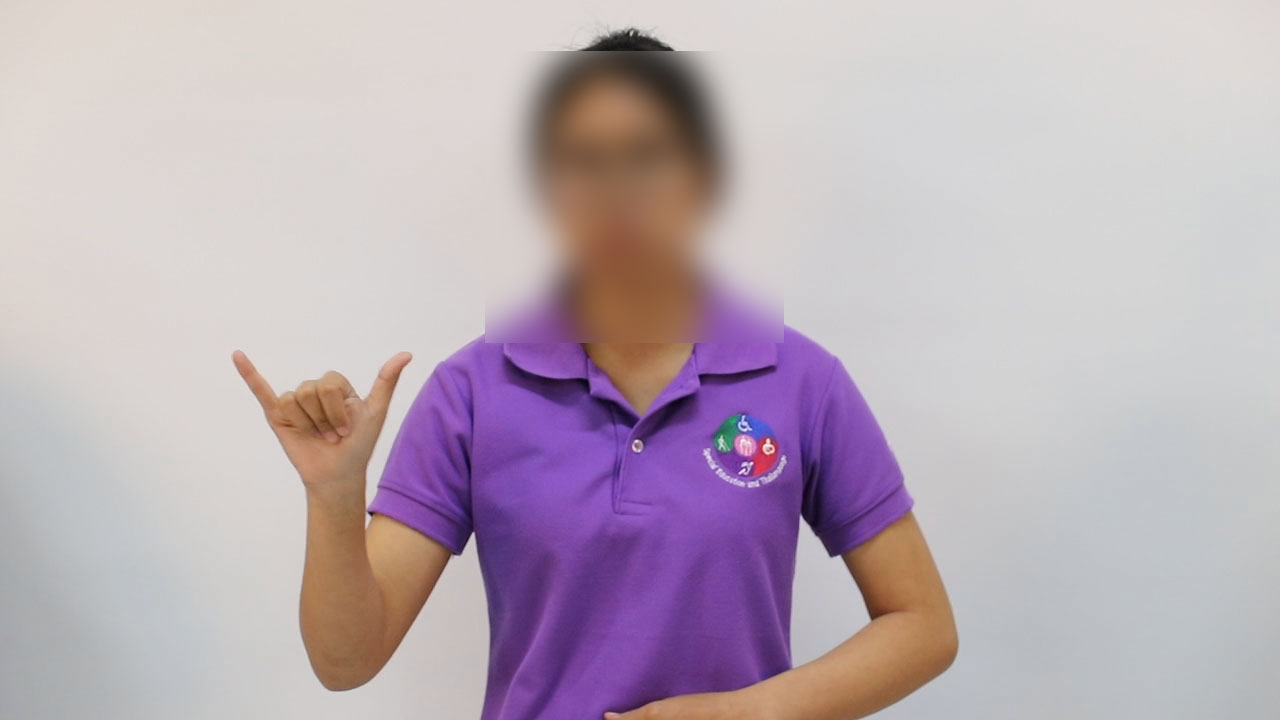yor: (218, 328, 435, 510)
